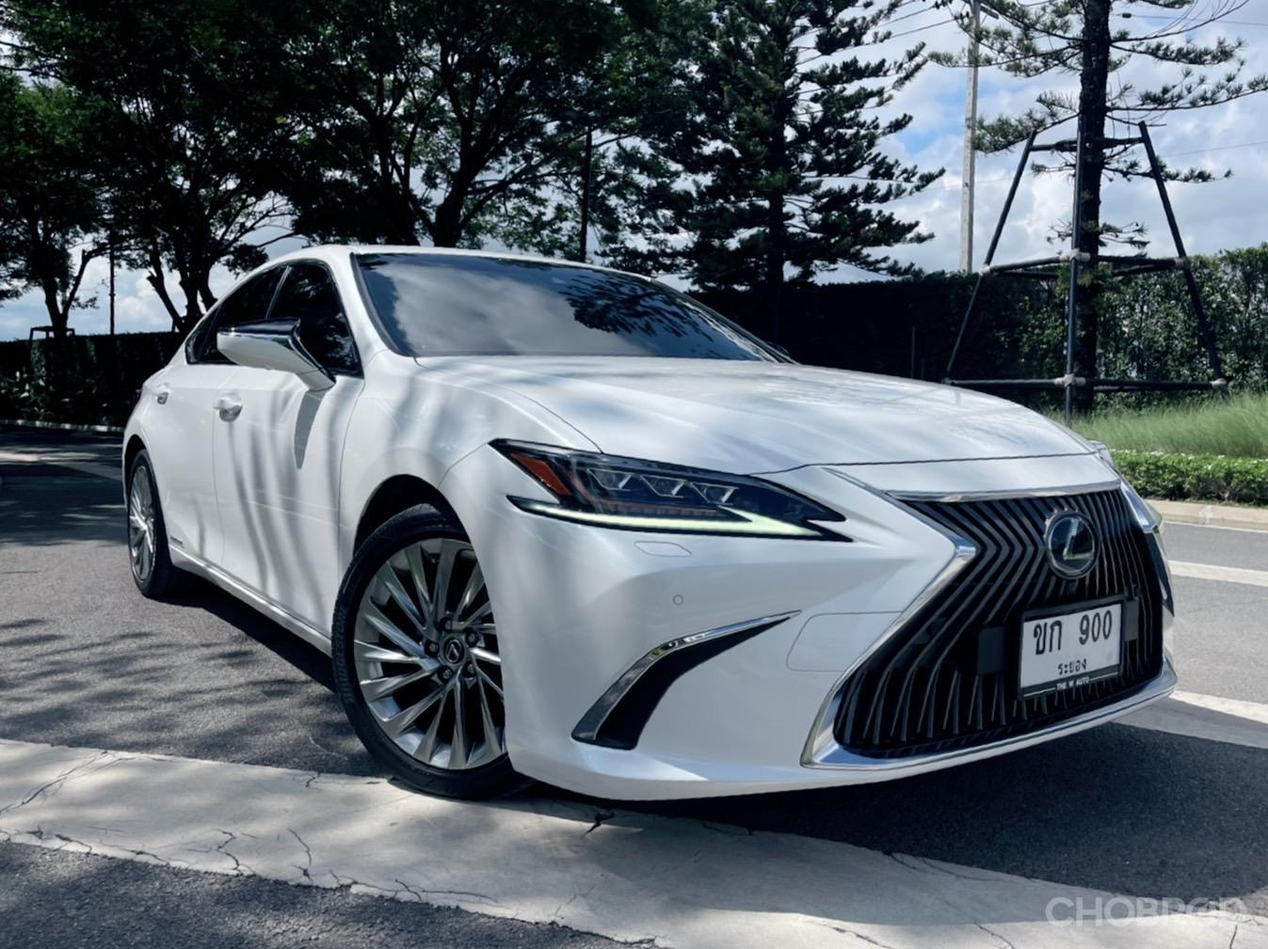license-plate: (1009, 595, 1134, 704)
